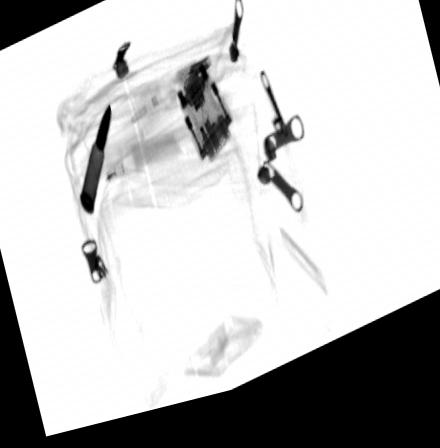Bullet: (77, 101, 112, 223)
